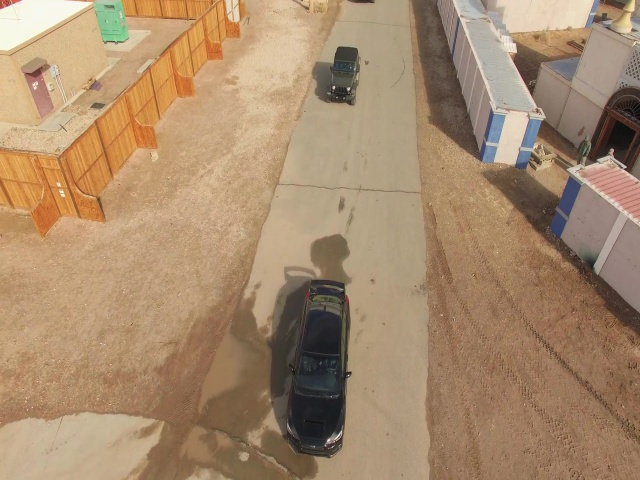vehicle: (282, 279, 353, 458), (327, 47, 362, 105)
